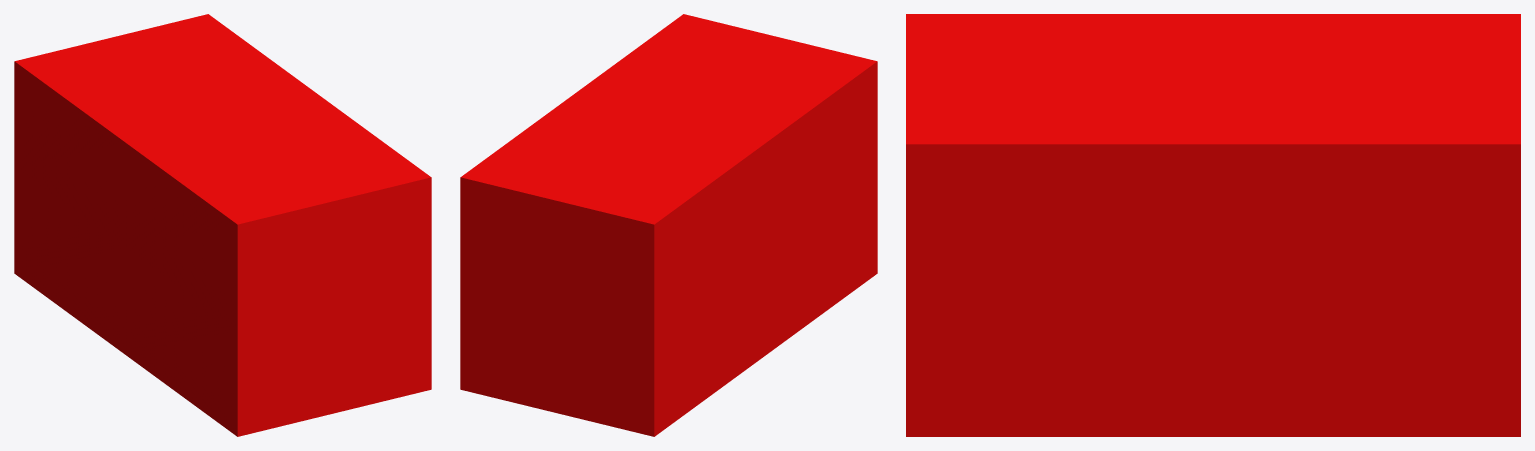
The model's file is fingers19_col.dae.
The picture shows the model from 3 angles, left to right: view 1: azimuth 30°, elevation 25°; view 2: azimuth 150°, elevation 25°; view 3: azimuth 270°, elevation 25°; orthographic projection. The views are drawn at different scales.
Parts seen in each view (by area): view 1: node0; view 2: node0; view 3: node0.
Part boxes in pixels (bbox=[...]): node0: bbox=[14, 14, 431, 436]; node0: bbox=[460, 14, 877, 436]; node0: bbox=[906, 14, 1520, 436].
Size of the model in its own units: 0.0143 by 0.0149 by 0.0285.
